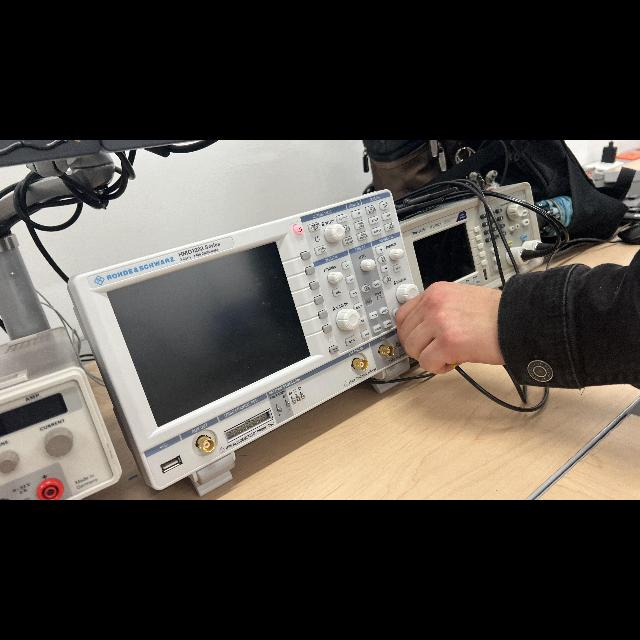Digital-Oscilloscope: (69, 190, 417, 495)
